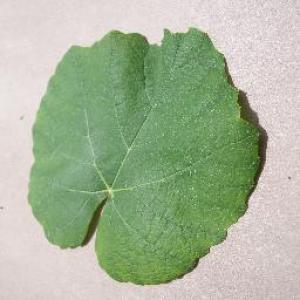Folha: (26, 26, 262, 285)
